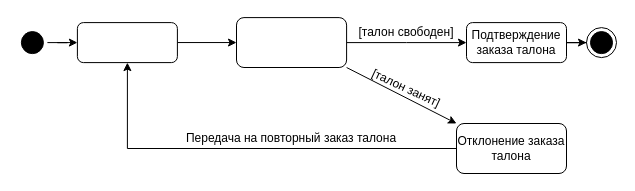
This 635x191 diagram has some shape labels left out. Each missing label, with the centre of its shape:
Заказ талона: [126,42]
Ожидание подтверждения талона: [291,42]
